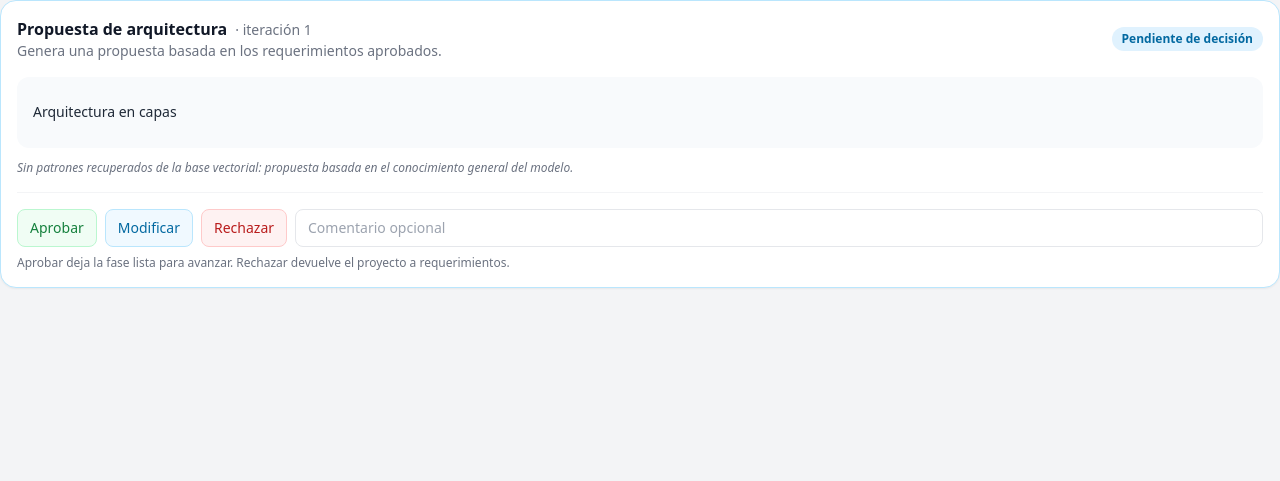
Test case: ProposalCard › progreso, cancelar y reintentar (F19) › tras un fallo de la modificación ofrece reintentar con el mismo feedback
Check: the element with test id "proposal-content" is shown, box [17,77,1263,148]
Click the button with test id "proposal-modify" at (149, 228), box [105,209,193,247]
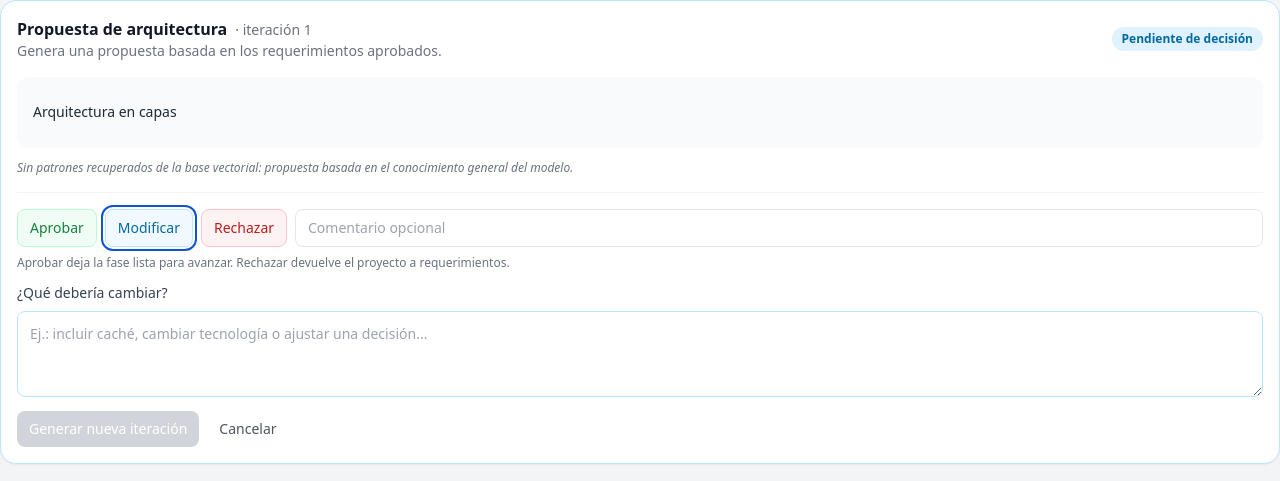
Type "agrega caché" into the text box labelled "¿Qué debería cambiar?" at (640, 354), box [17,311,1263,397]
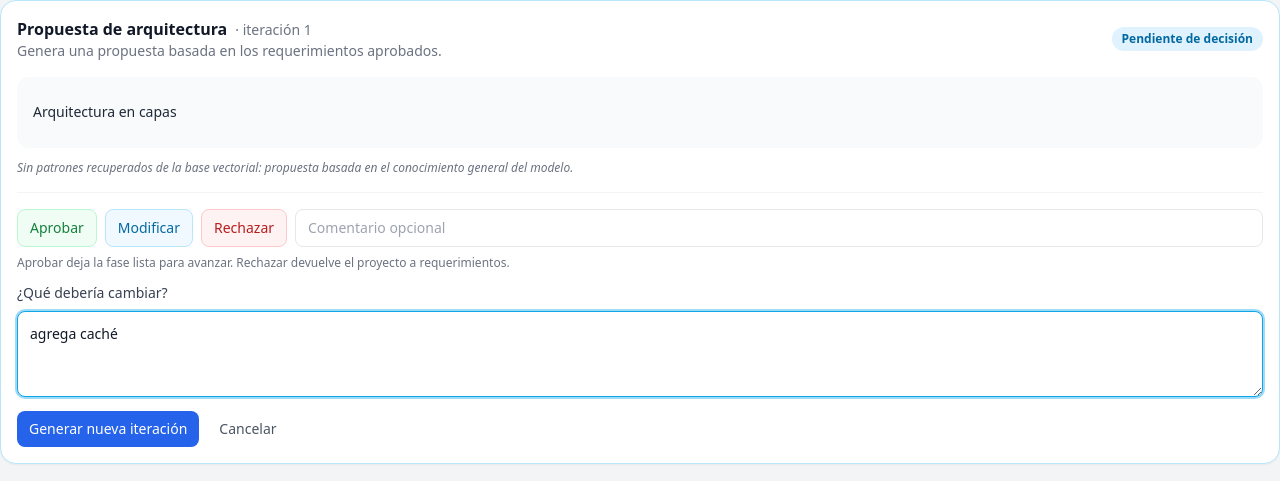
Click the button "Generar nueva iteración" at (108, 429), box [17,411,199,447]
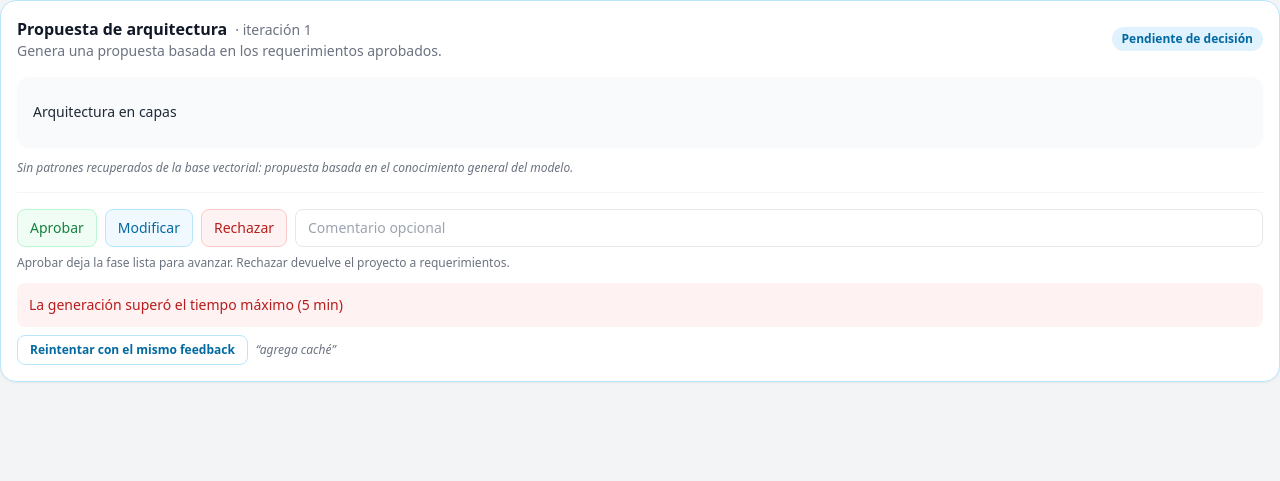
Check: the text with test id "proposal-retry-feedback" shows "agrega caché", box [260,341,331,358]
Click the button with test id "proposal-retry" at (132, 350), box [17,335,248,365]
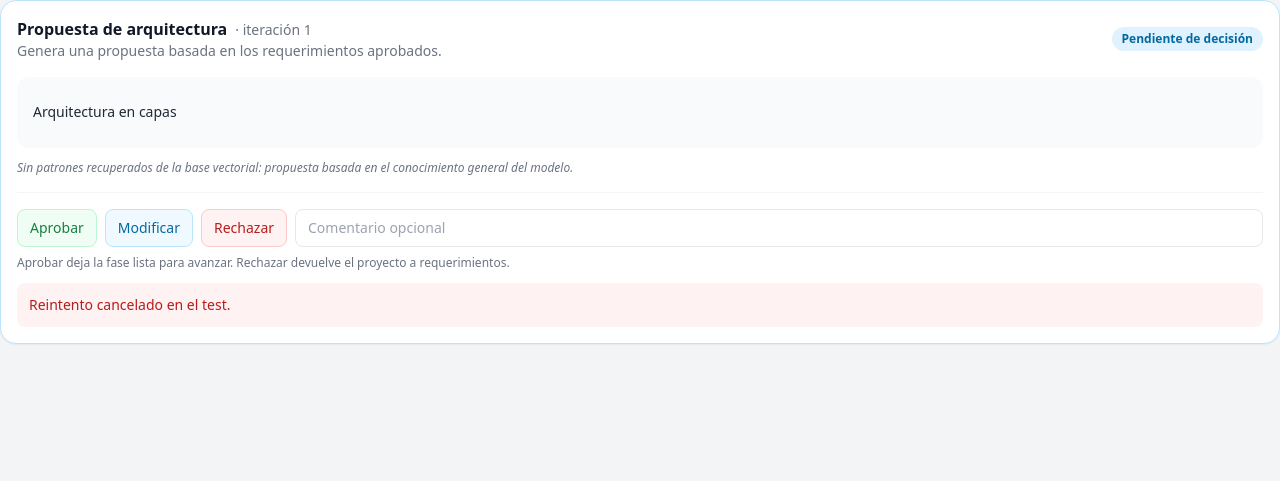
Check: the button with test id "proposal-retry" is gone
